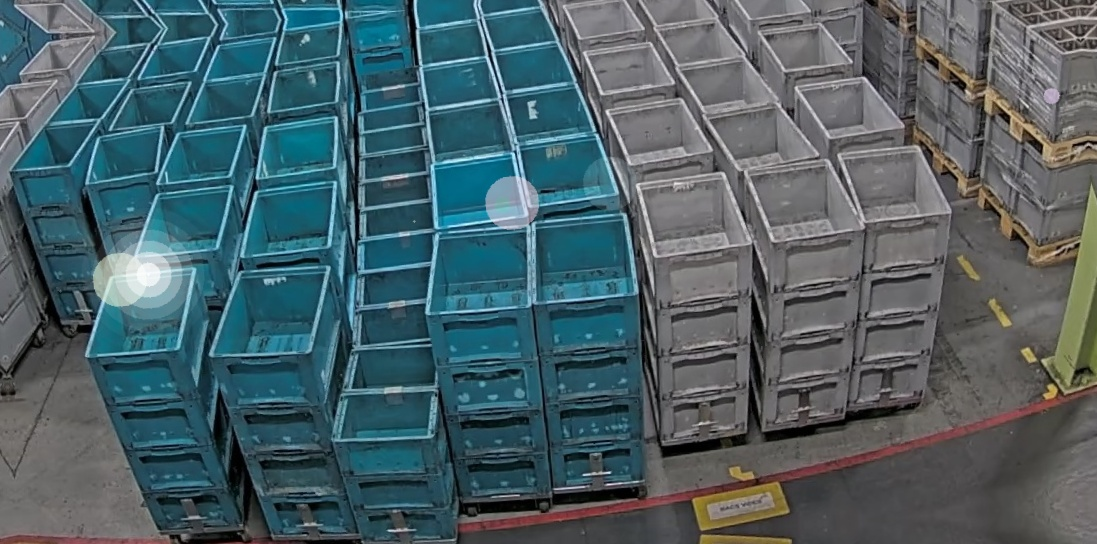4G: (733, 153, 880, 429), (632, 168, 769, 444), (826, 141, 967, 409)
B4: (77, 264, 251, 538), (202, 261, 364, 544), (416, 224, 555, 504), (523, 211, 656, 489), (79, 124, 180, 276)
B8: (322, 341, 464, 544)
